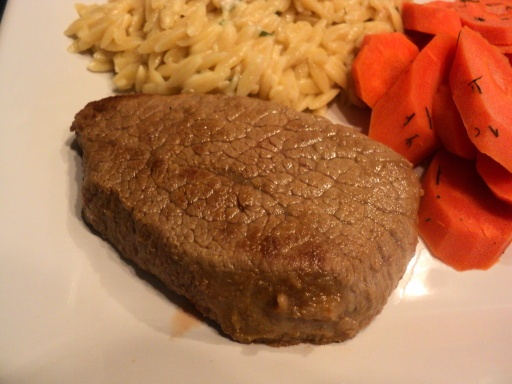background: (50, 0, 409, 208)
